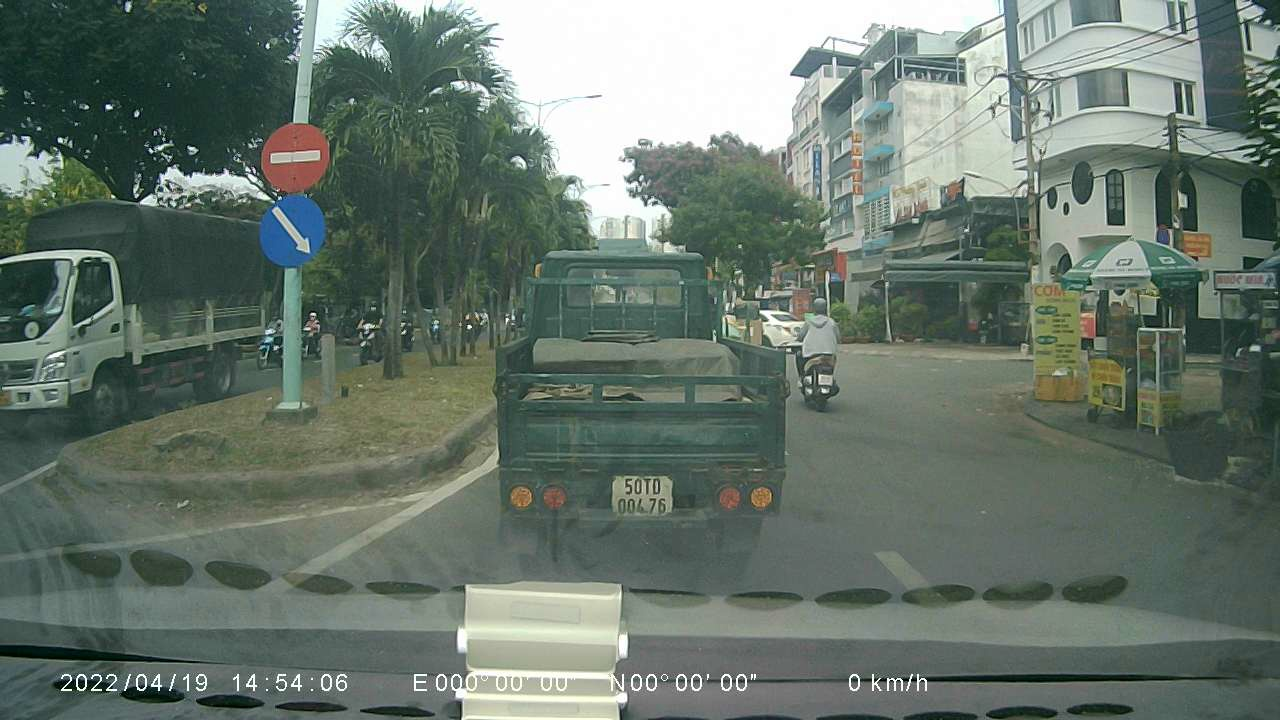Cam di nguoc chieu: (260, 119, 330, 190)
Huong di phai re phai: (256, 197, 330, 268)
